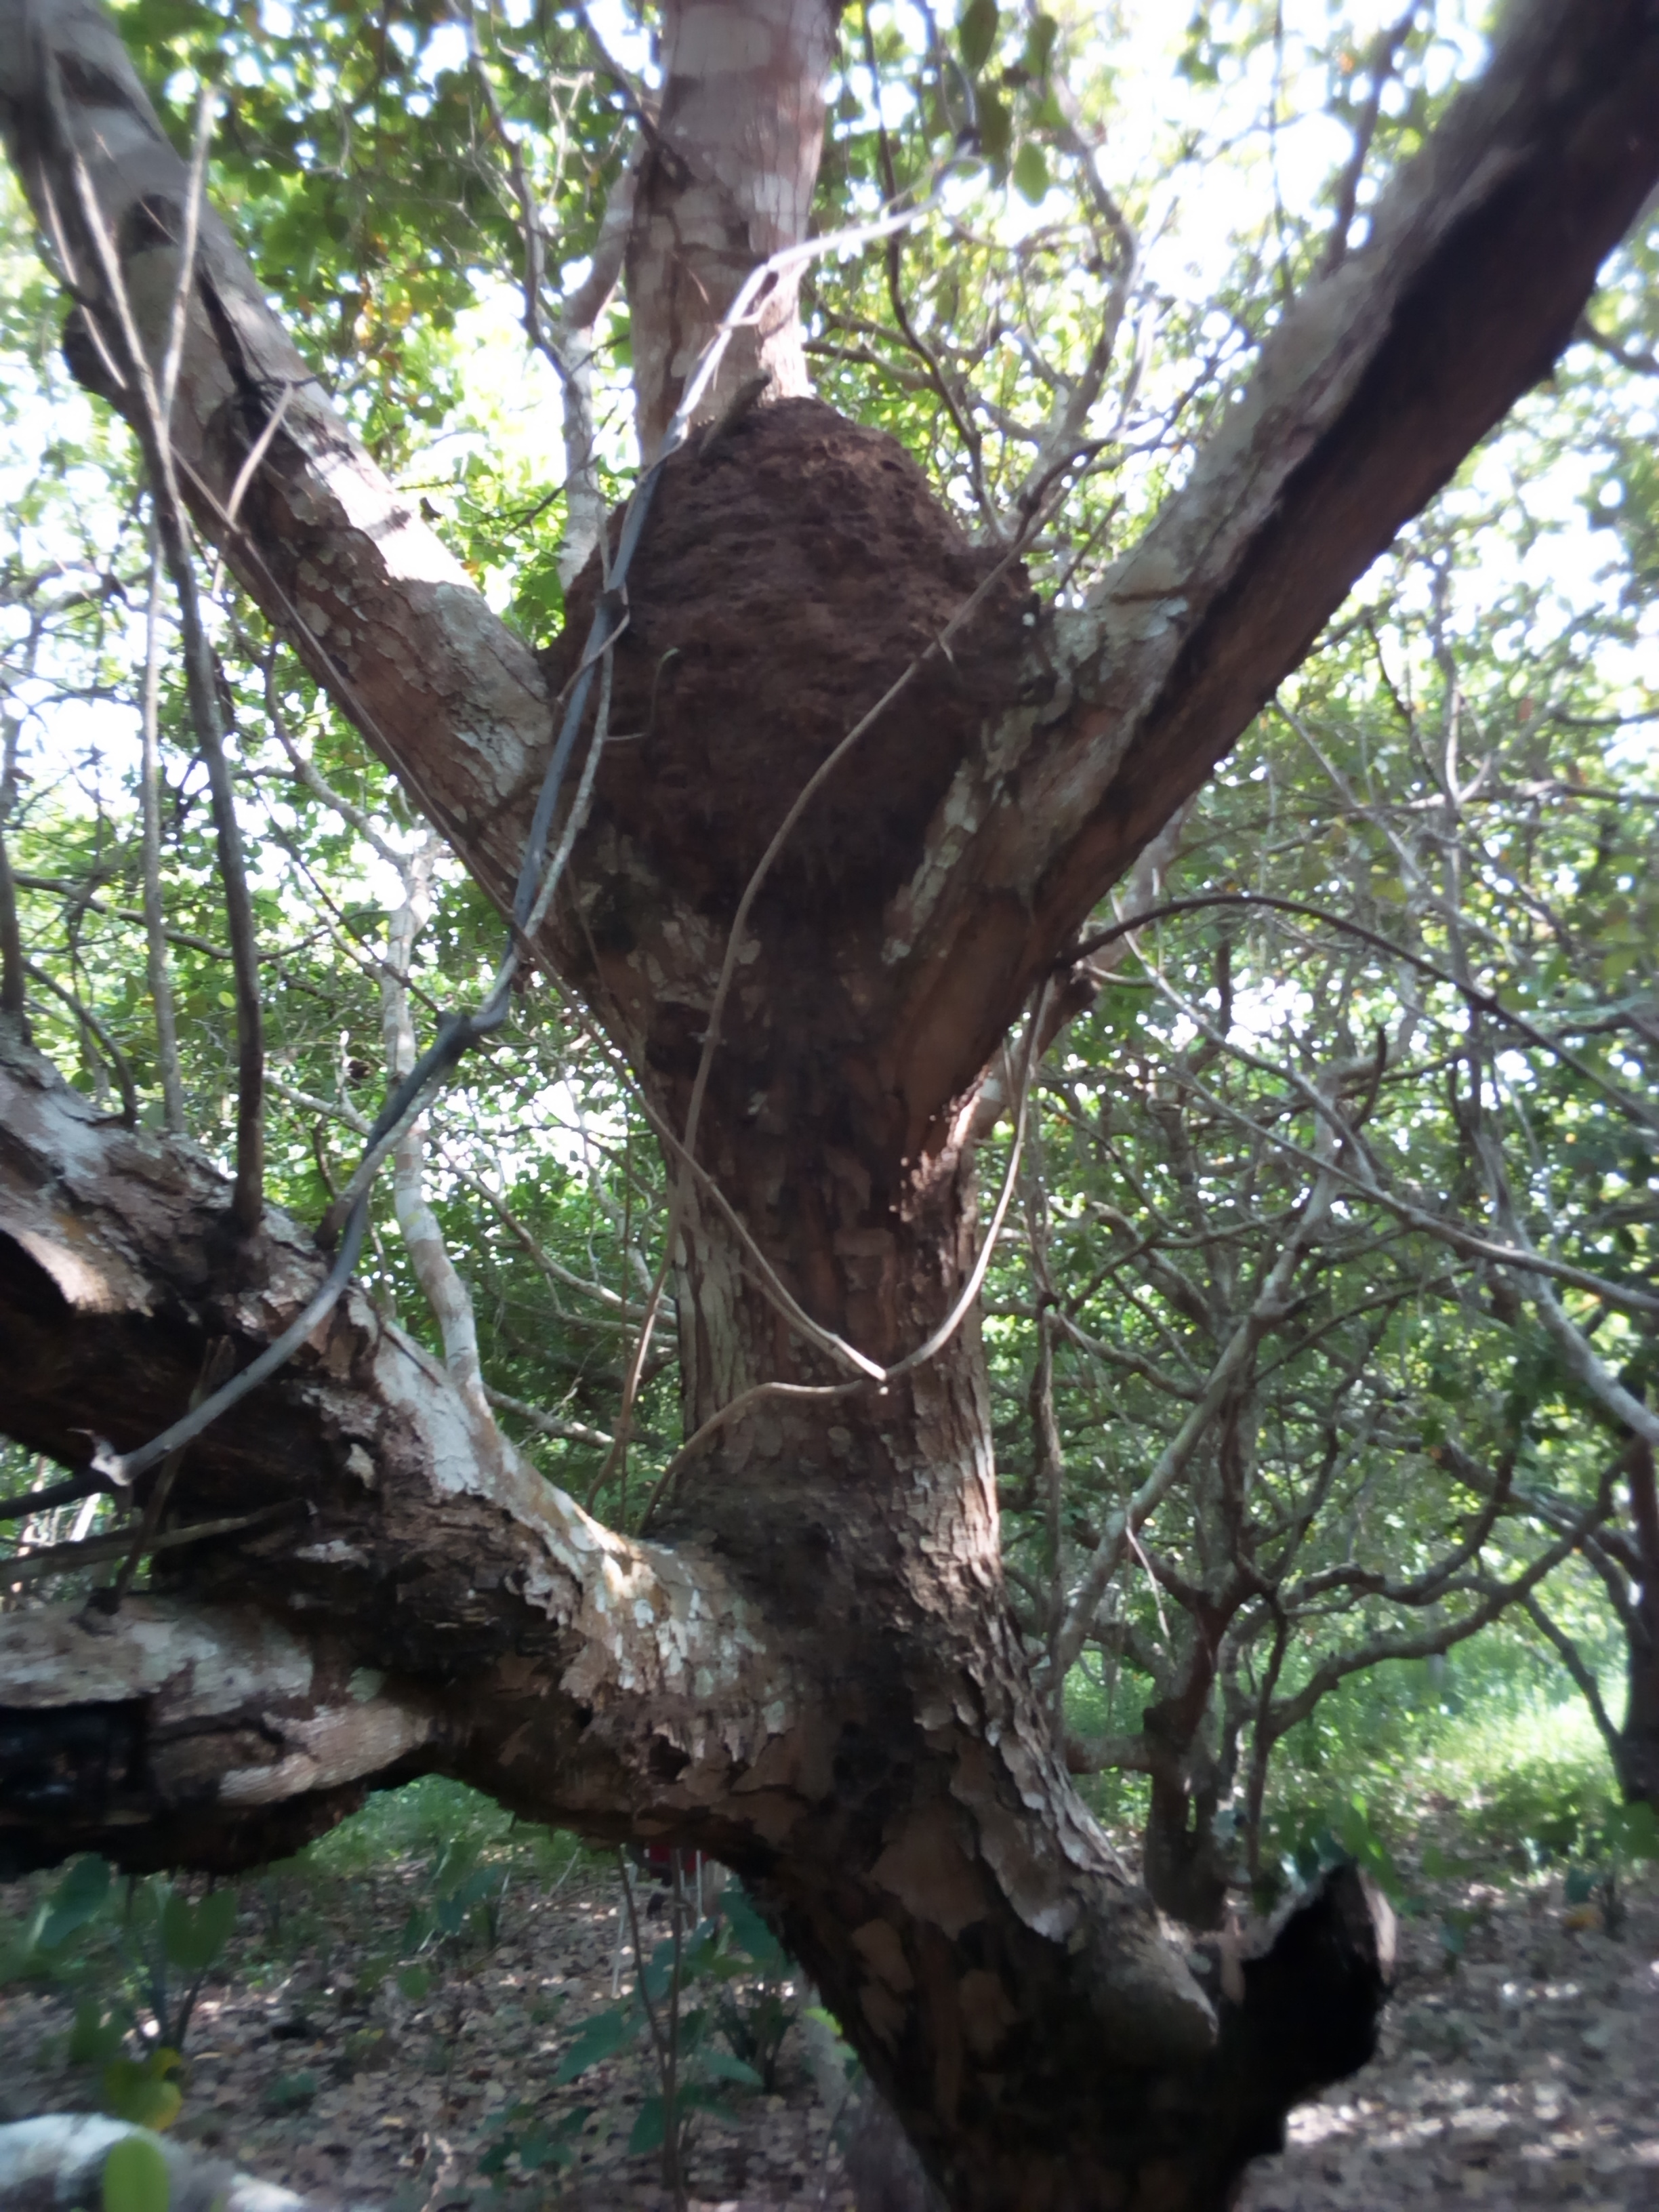Termites: (33, 1157, 613, 1733), (751, 1561, 1107, 2020), (671, 418, 985, 923)
